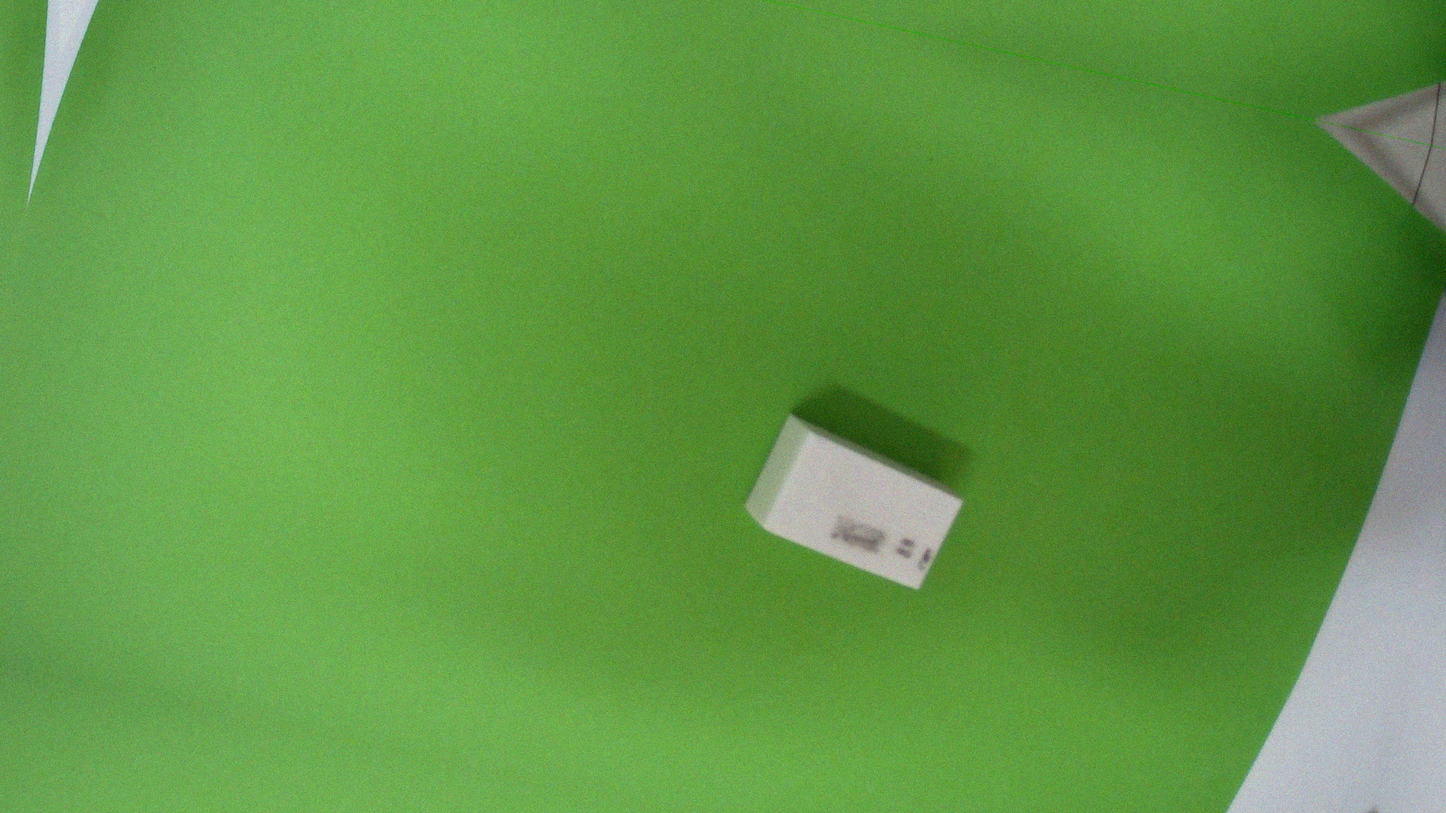gom: (735, 402, 972, 602)
